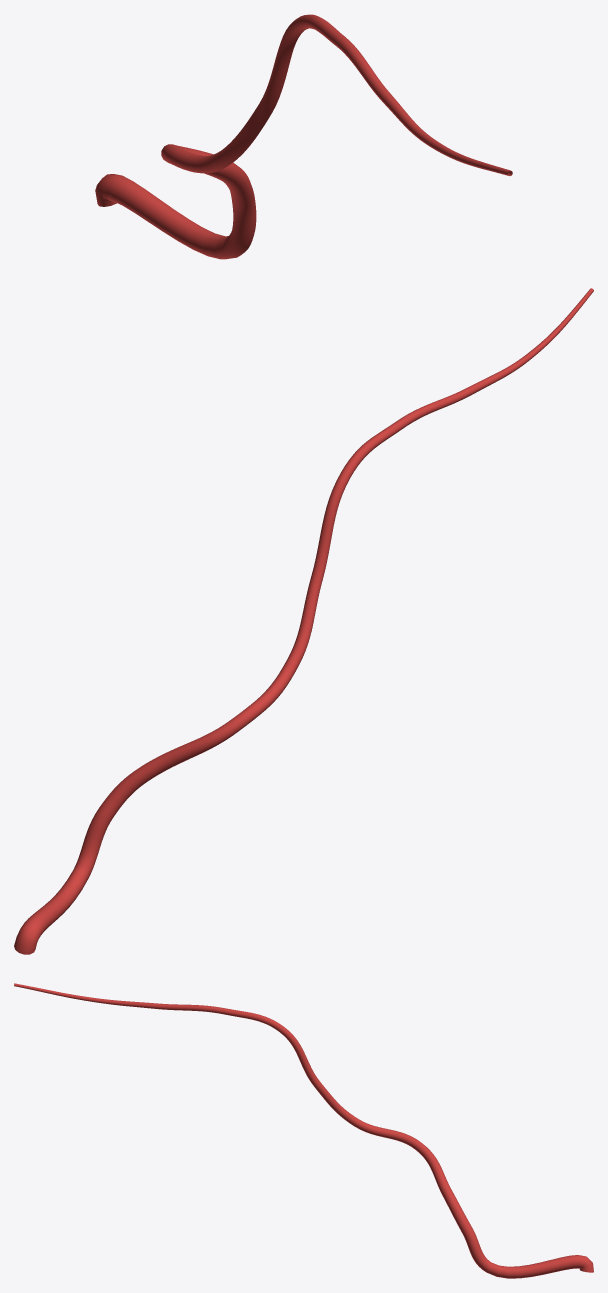
The picture shows the model from 3 angles, top to bottom: view 1: azimuth 30°, elevation 25°; view 2: azimuth 150°, elevation 25°; view 3: azimuth 270°, elevation 25°; orthographic projection. The views are drawn at different scales.
Visible parts, largest first — view 1: 左侧颈深动脉; view 2: 左侧颈深动脉; view 3: 左侧颈深动脉.
Boxes of the visible parts, x1,y1,x2,y2 form: 左侧颈深动脉: (95,14,512,259); 左侧颈深动脉: (14,288,593,954); 左侧颈深动脉: (14,983,593,1278).
Size of the model in its own units: 0.0249 by 0.0557 by 0.1182.
